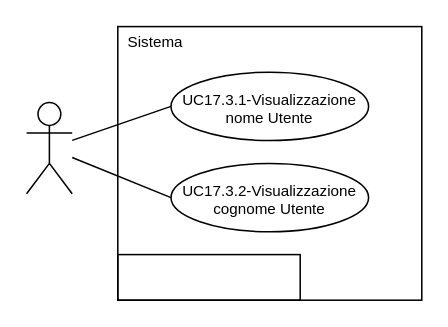
Image size: 448x327. Some labels were removed from this diagram. The centre of each missing label's shape, as x and y in pixels:
"UC17.3-Visualizzazione informazioni Utente" goes at (x=208, y=276).
"Utente" goes at (x=48, y=147).
